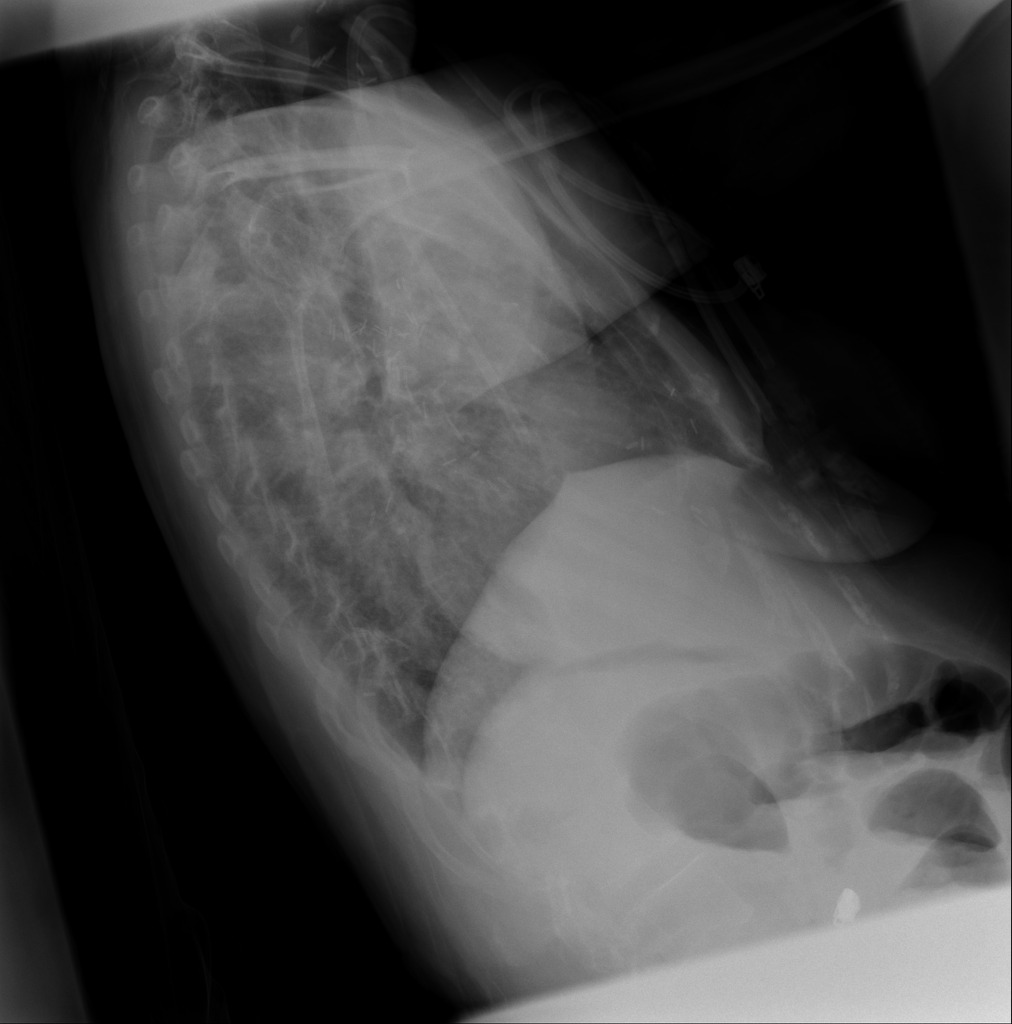cancer: (279, 173, 799, 841)
